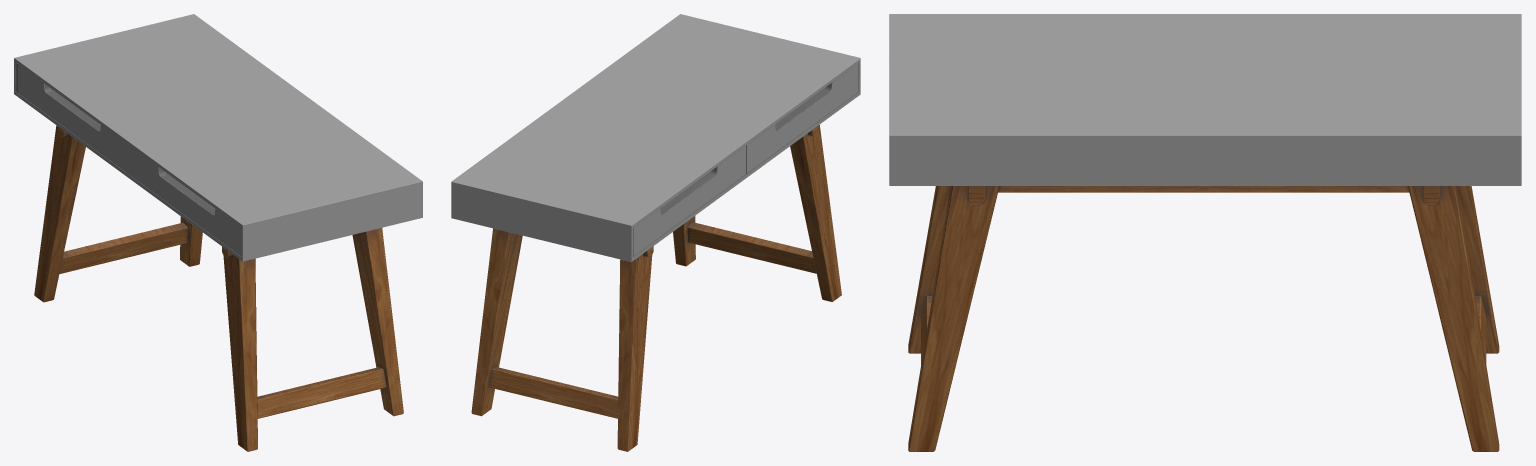
The model's file is SM_WhiteDeskTableS.fbx.
The picture shows the model from 3 angles, left to right: view 1: azimuth 30°, elevation 25°; view 2: azimuth 150°, elevation 25°; view 3: azimuth 270°, elevation 25°; orthographic projection. The views are drawn at different scales.
Parts seen in each view (by area): view 1: SM_WhiteDeskTableS_LOD0; view 2: SM_WhiteDeskTableS_LOD0; view 3: SM_WhiteDeskTableS_LOD0.
Part boxes in pixels (bbox=[...]): SM_WhiteDeskTableS_LOD0: bbox=[14, 14, 422, 451]; SM_WhiteDeskTableS_LOD0: bbox=[451, 14, 860, 451]; SM_WhiteDeskTableS_LOD0: bbox=[889, 14, 1521, 451].
Size of the model in its own units: 80.25 by 176 by 99.98.
Materials: 1 (1 with a texture image).
